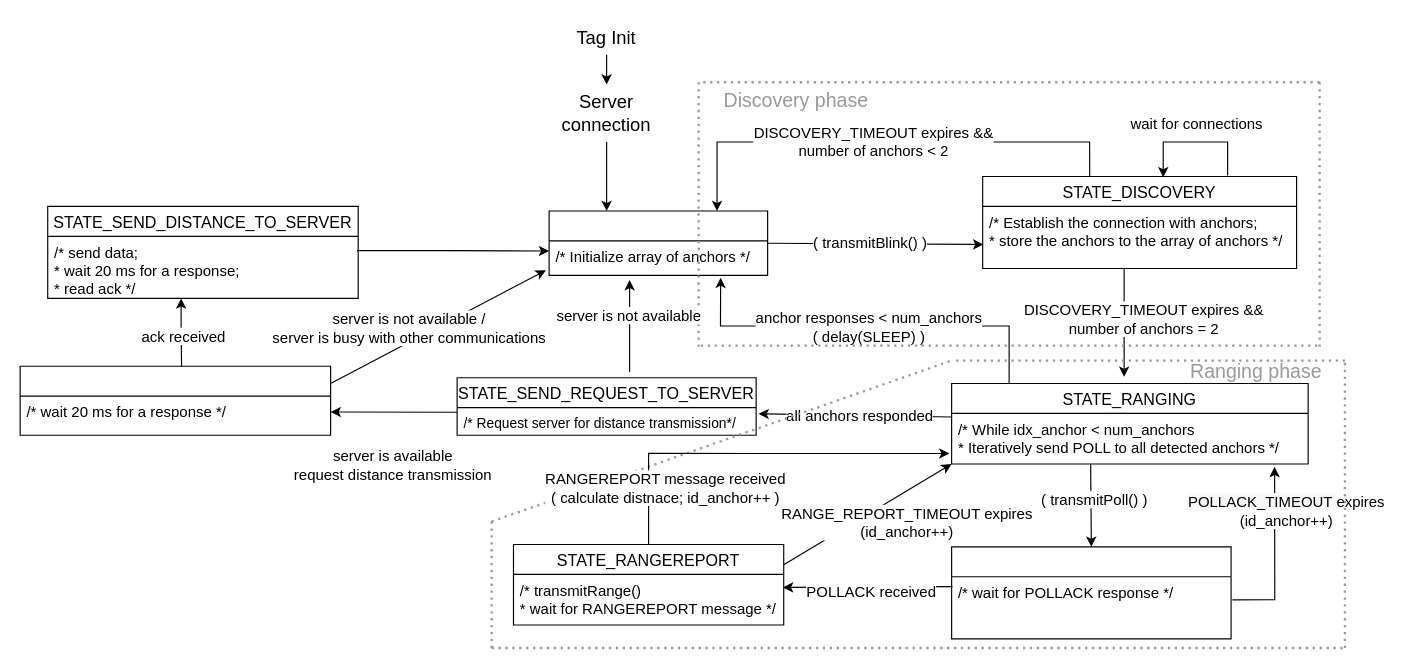
Some shapes in this 1404 by 669 pixel diagram are drawn without their labels. The shapes that lost their labels are listed below. From the top down, each one's box as (x1, y1, x2, y2) in pixels, then its label:
(548, 210, 768, 275): STATE_IDLE
(19, 365, 331, 435): STATE_REQUEST_ACK_FROM_SERVER
(950, 546, 1231, 639): STATE_POLLACK
